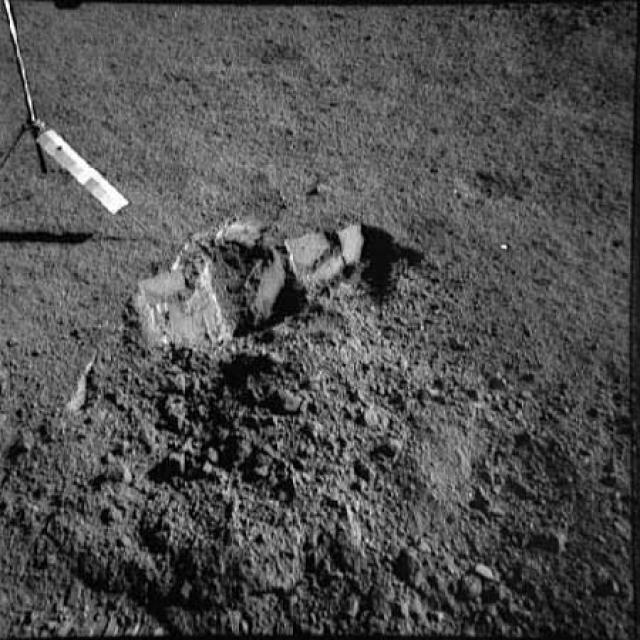artifact: (3, 0, 138, 233)
